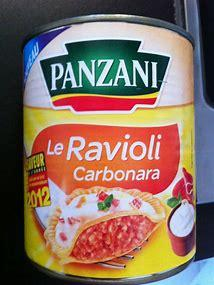metal: (24, 15, 196, 284)
